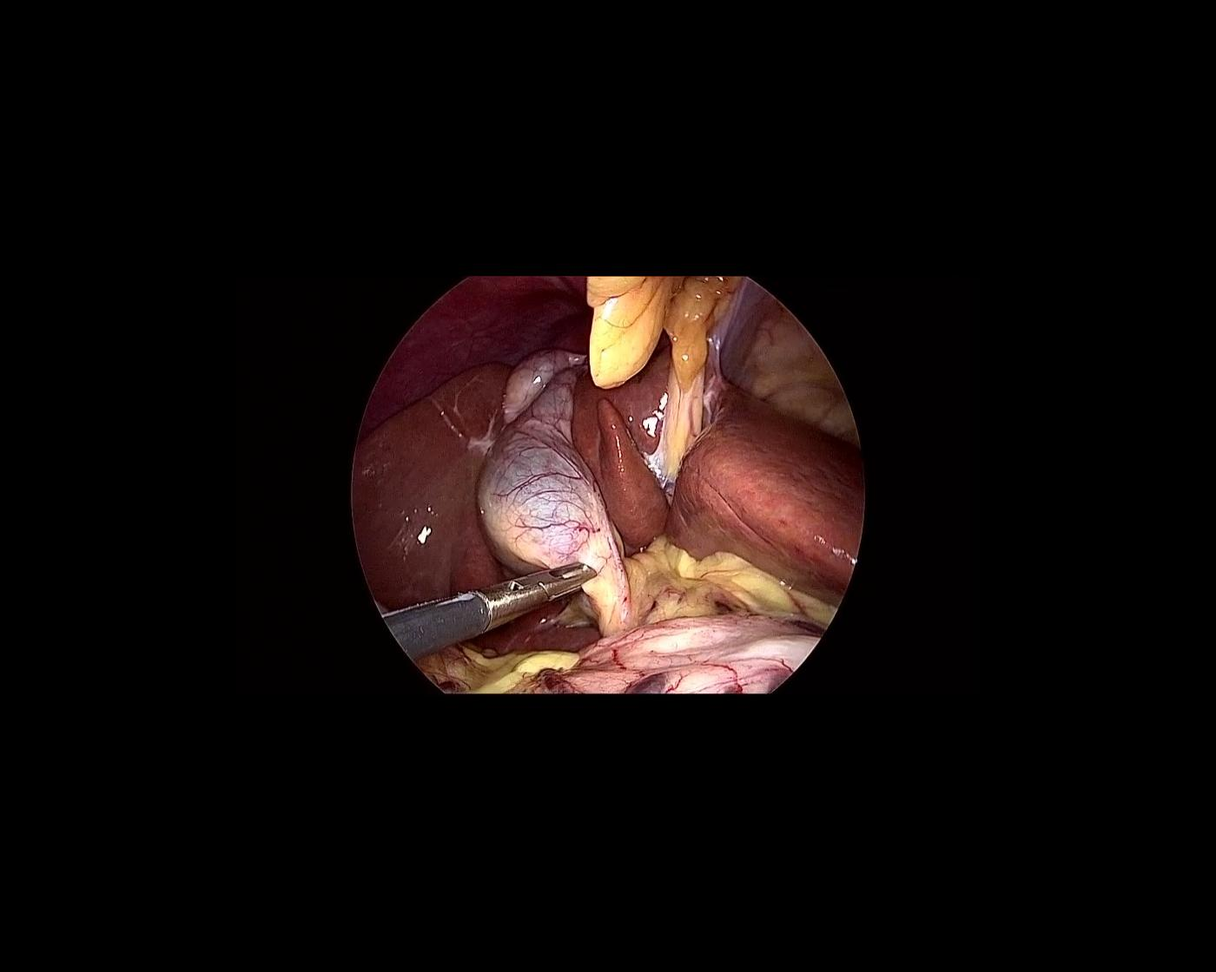Forceps: (383, 535, 607, 665)
Gallbladder: (458, 348, 613, 574)
Liver: (310, 227, 606, 636), (544, 340, 889, 603)
